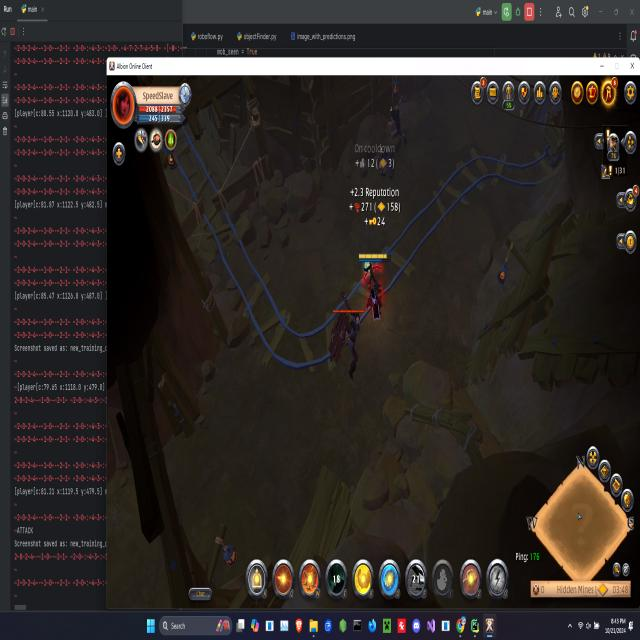ore: (322, 296, 369, 384), (383, 77, 415, 156), (374, 131, 404, 197)
red: (354, 248, 392, 323)
